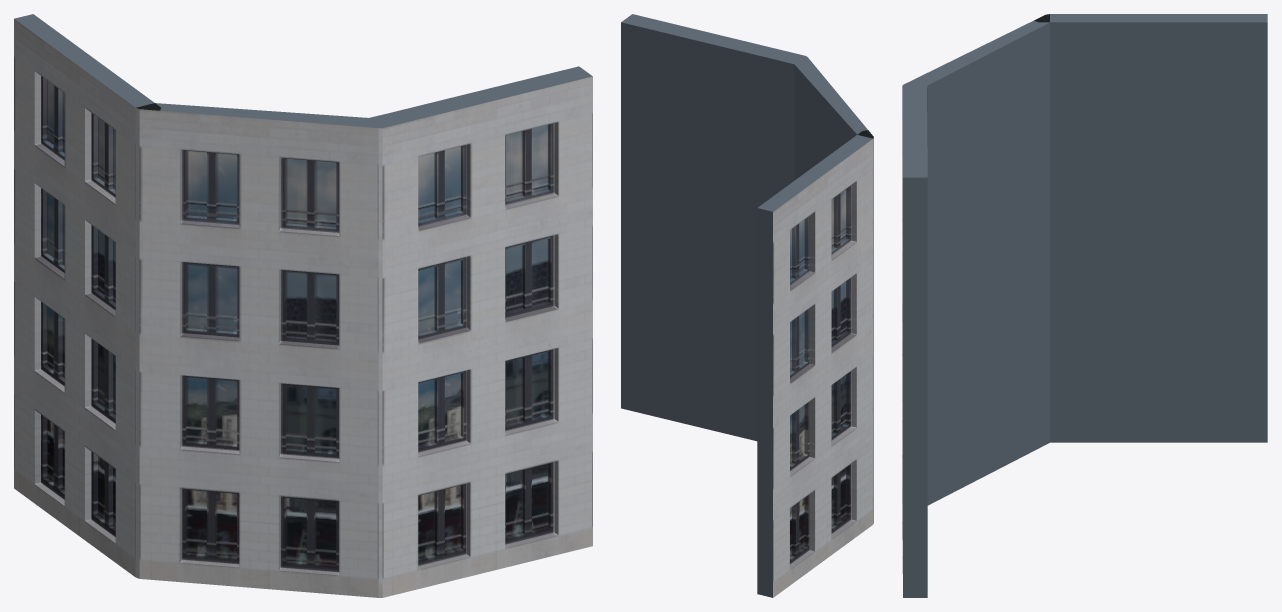
Rendered from facade_corner1.fbx.
3 views of the same model, side by side, from view 1: azimuth 30°, elevation 25°; view 2: azimuth 150°, elevation 25°; view 3: azimuth 270°, elevation 25° (orthographic). The views are drawn at different scales.
Parts seen in each view (by area): view 1: facade_corner1; view 2: facade_corner1; view 3: facade_corner1.
Part boxes in pixels (left/top/right/bottom): facade_corner1: left=14, top=14, right=592, bottom=597; facade_corner1: left=621, top=14, right=873, bottom=597; facade_corner1: left=902, top=14, right=1267, bottom=597.
Bounding box in the file's own units: 55.52 × 66.45 × 52.4.
Materials: 2 (2 with a texture image).
